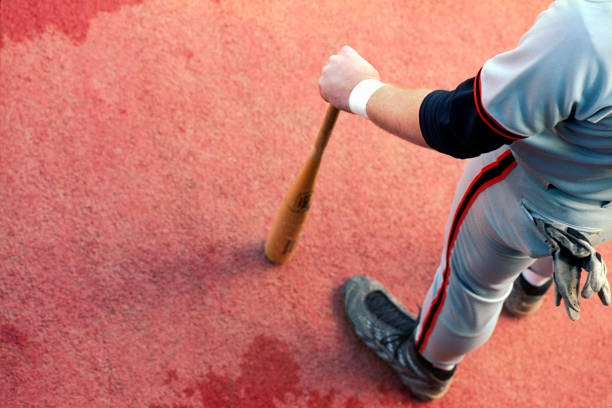bita: (262, 76, 350, 265)
